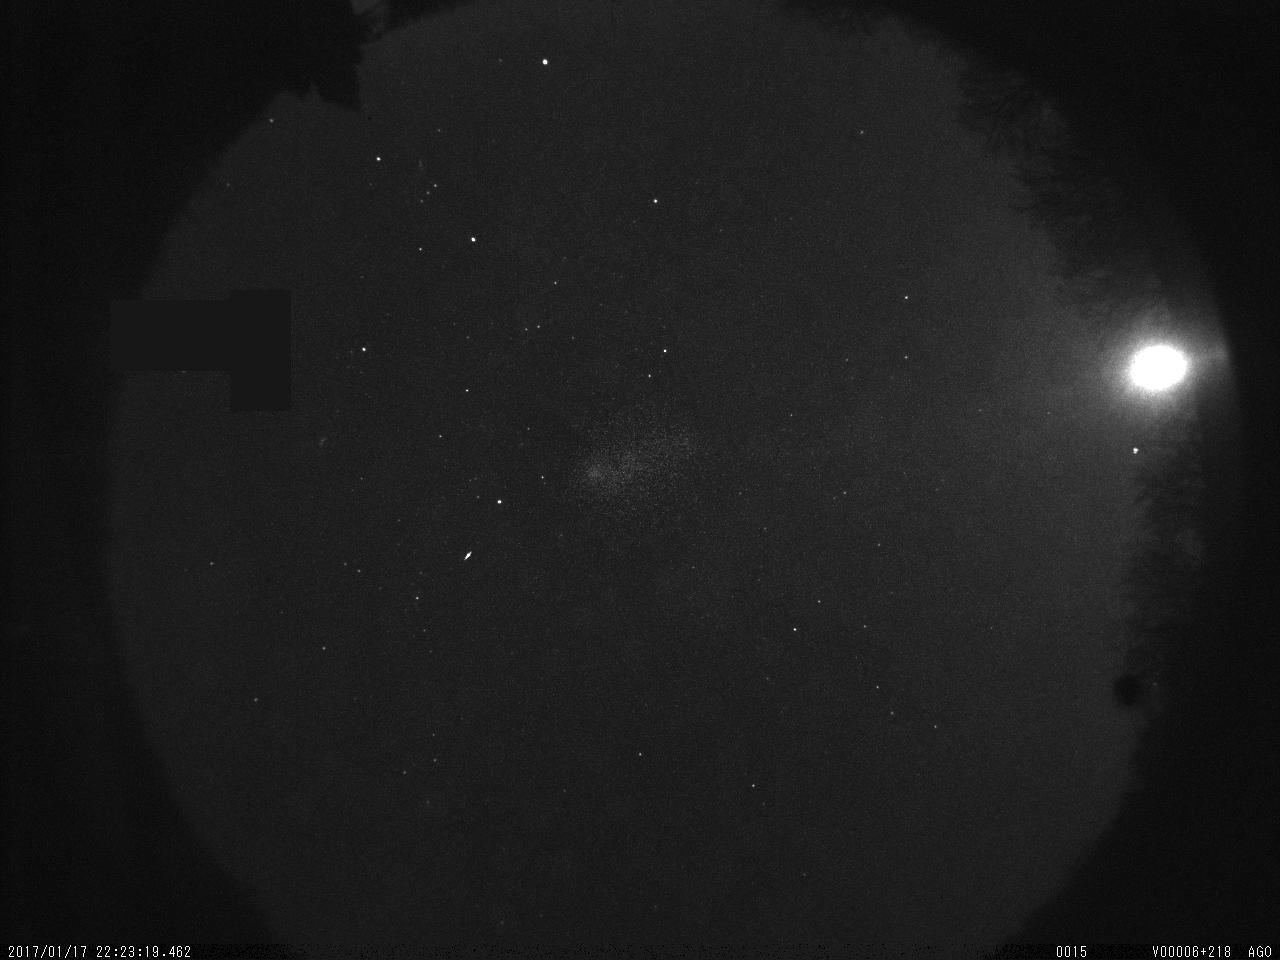meteor: (405, 168, 483, 222)
